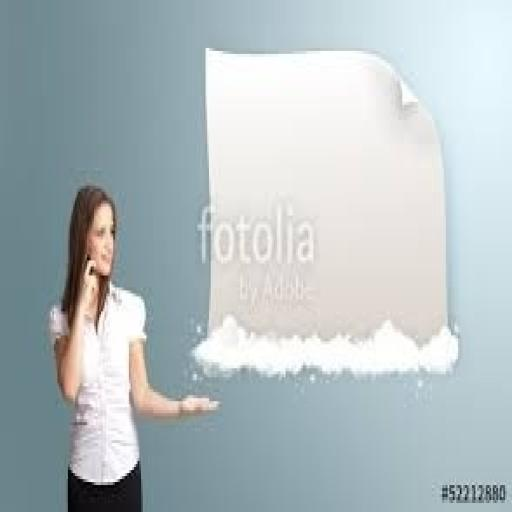calling: (47, 180, 221, 509)
